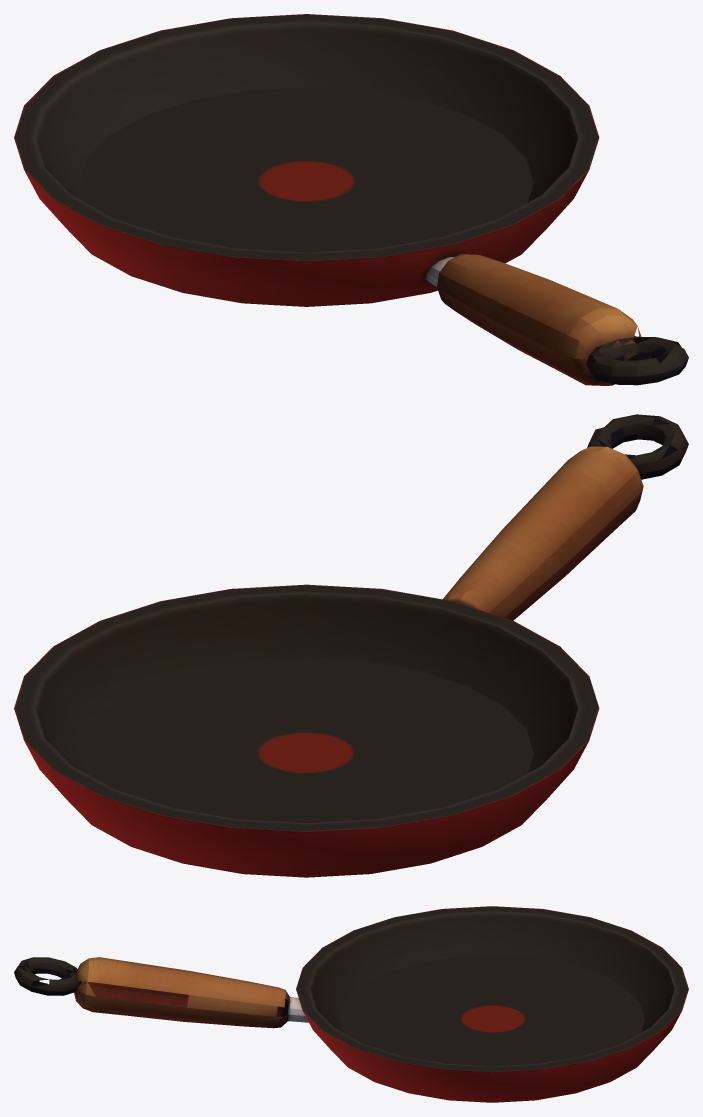
Rendered from pan.gltf.
3 renders of one model, top to bottom at view 1: azimuth 30°, elevation 25°; view 2: azimuth 150°, elevation 25°; view 3: azimuth 270°, elevation 25°, orthographic. The views are drawn at different scales.
Visible parts, largest first — view 1: pingdiguo, pingdiguo.001; view 2: pingdiguo, pingdiguo.001; view 3: pingdiguo, pingdiguo.001.
Part boxes in pixels (x1=…): pingdiguo: x1=14, y1=14, x2=684, y2=385; pingdiguo.001: x1=383, y1=245, x2=688, y2=385; pingdiguo: x1=14, y1=414, x2=688, y2=877; pingdiguo.001: x1=445, y1=414, x2=686, y2=620; pingdiguo: x1=14, y1=906, x2=688, y2=1102; pingdiguo.001: x1=14, y1=957, x2=308, y2=1027.
Size of the model in its own units: 1.26 by 0.2556 by 2.16.
Materials: 1 (1 with a texture image).
